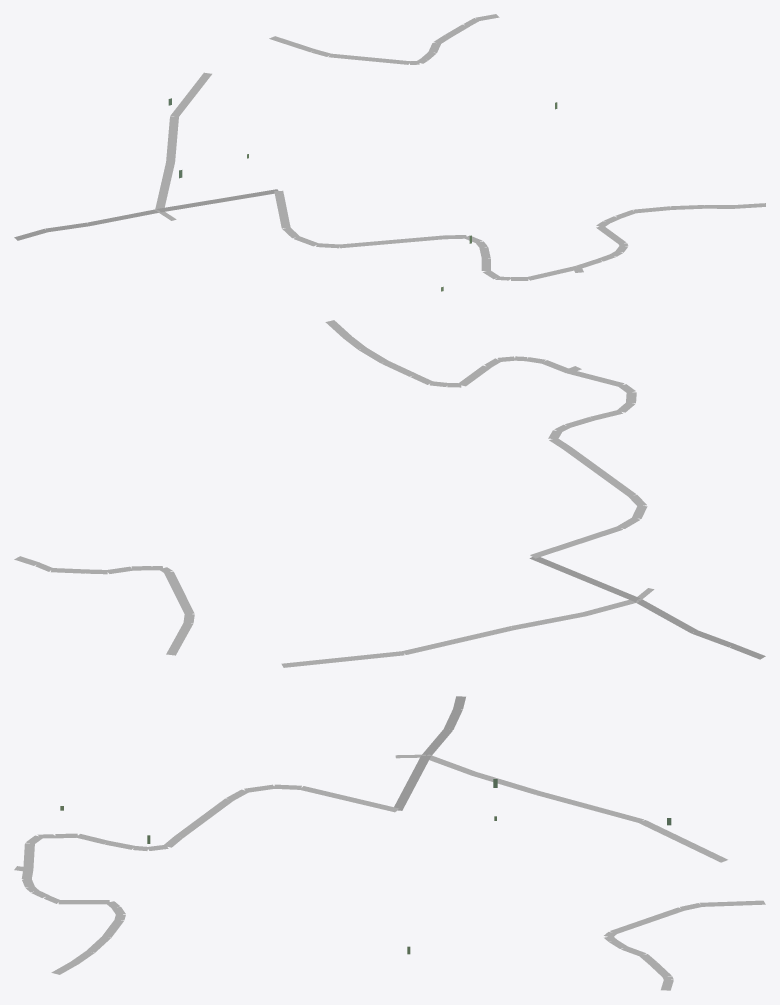
The picture shows the model from 3 angles, top to bottom: view 1: azimuth 30°, elevation 25°; view 2: azimuth 150°, elevation 25°; view 3: azimuth 270°, elevation 25°; orthographic projection. The views are drawn at different scales.
Size of the model in its own units: 512 by 24.79 by 520.
